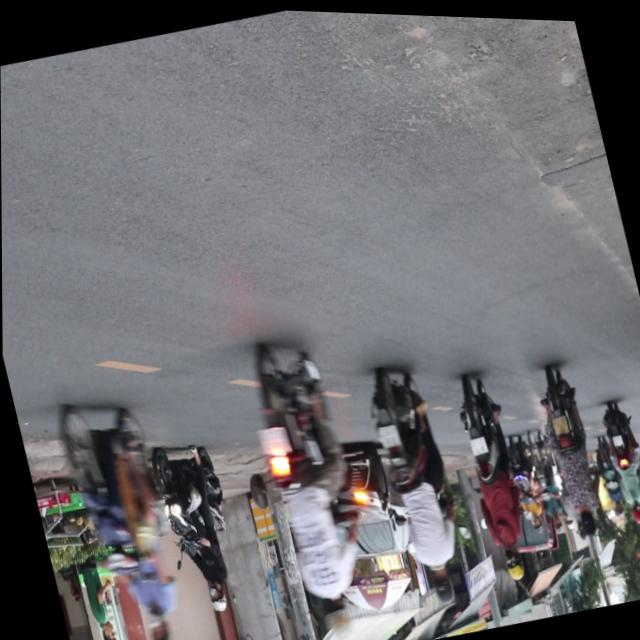helmet: (318, 589, 356, 640), (425, 561, 455, 605), (139, 607, 176, 640), (499, 541, 525, 580), (205, 579, 227, 613)
licenseplate: (233, 326, 389, 640), (46, 381, 204, 640), (357, 356, 475, 611), (447, 366, 540, 584), (149, 433, 250, 620), (528, 358, 611, 543)
motorcyclist: (575, 505, 598, 537)
nohelmet: (256, 423, 290, 457), (376, 422, 400, 448), (467, 433, 488, 454), (551, 410, 569, 432)
